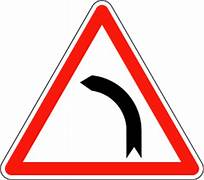left: (1, 1, 204, 180)
